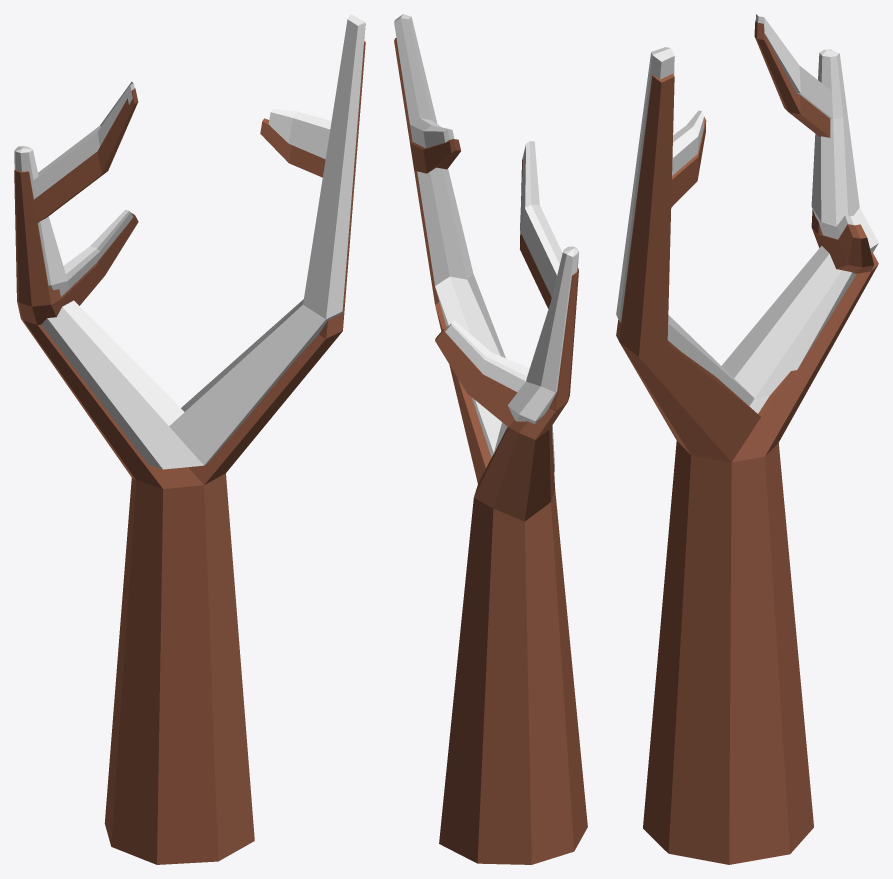
File: Tree_05_winter.fbx
3 renders of one model, left to right at view 1: azimuth 30°, elevation 25°; view 2: azimuth 150°, elevation 25°; view 3: azimuth 270°, elevation 25°, orthographic. The views are drawn at different scales.
Parts seen in each view (by area): view 1: Tree_05_winter; view 2: Tree_05_winter; view 3: Tree_05_winter.
Boxes of the visible parts, x1=… form: Tree_05_winter: x1=14, y1=14, x2=365, y2=864; Tree_05_winter: x1=394, y1=14, x2=587, y2=864; Tree_05_winter: x1=616, y1=14, x2=878, y2=864.
Size of the model in its own units: 52.44 by 148 by 41.19.
